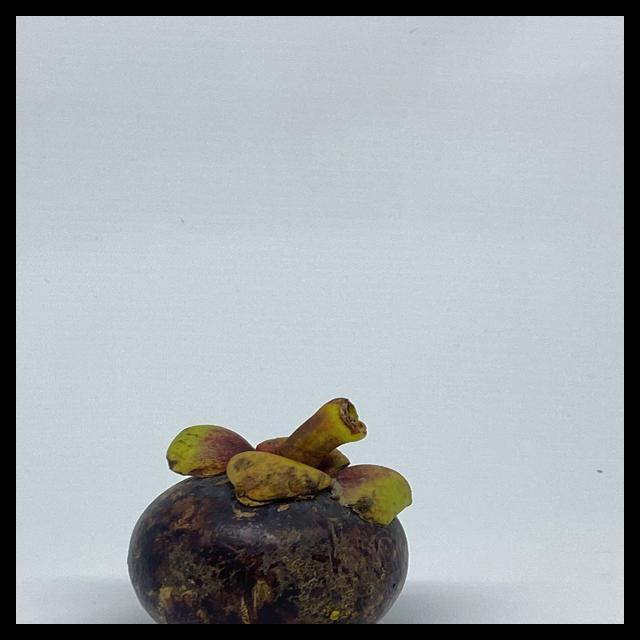mangosteen: (119, 391, 421, 624)
